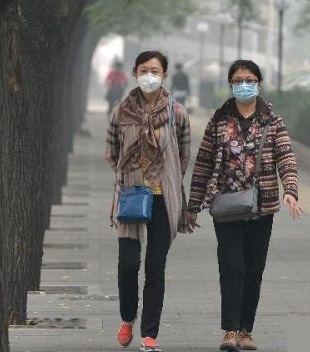person: (188, 56, 304, 352), (100, 50, 191, 349), (105, 60, 127, 112), (169, 61, 193, 106)
